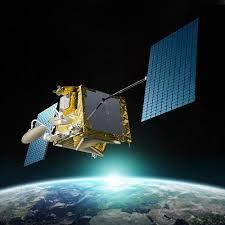antenna: (18, 123, 49, 147)
body: (49, 83, 135, 161)
solar: (138, 16, 202, 125), (22, 100, 61, 169)
